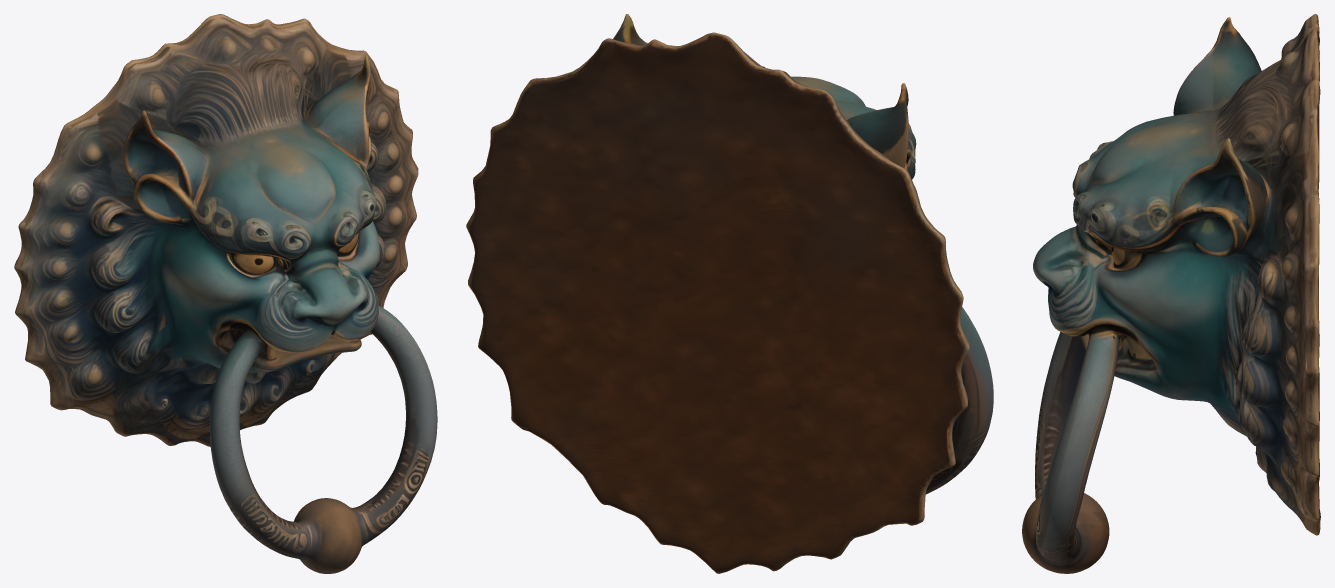
File: romantex_31.glb
The picture shows the model from 3 angles, left to right: view 1: azimuth 30°, elevation 25°; view 2: azimuth 150°, elevation 25°; view 3: azimuth 270°, elevation 25°; orthographic projection. The views are drawn at different scales.
Parts seen in each view (by area): view 1: texture_v130_hdr_21w_pbr_dino_11w.001; view 2: texture_v130_hdr_21w_pbr_dino_11w.001; view 3: texture_v130_hdr_21w_pbr_dino_11w.001.
Part boxes in pixels (left/top/right/bottom): texture_v130_hdr_21w_pbr_dino_11w.001: left=14, top=14, right=437, bottom=573; texture_v130_hdr_21w_pbr_dino_11w.001: left=466, top=14, right=993, bottom=573; texture_v130_hdr_21w_pbr_dino_11w.001: left=1022, top=14, right=1320, bottom=573.
Size of the model in its own units: 1.78 by 2 by 1.01.
1 material, 1 textured.
